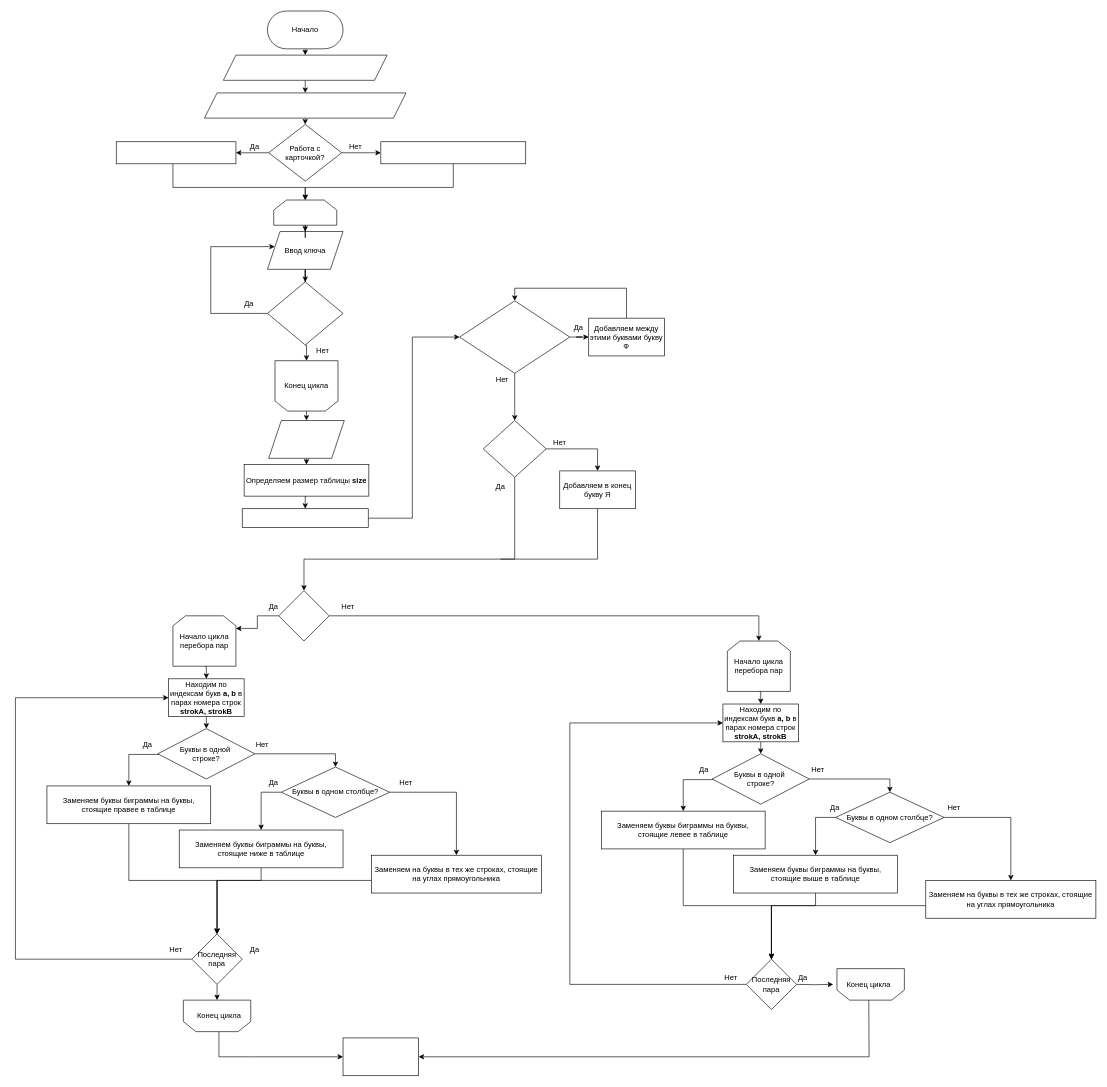
This 1107x1087 diagram has some shape labels left out. The shapes that lost their labels are listed below. From the top down, each one's centre as x and y in pixels, then its label:
At point (305, 67): "Выбор расшифрования или шифрования mode".
At point (305, 105): "Выбор работы с карточкой или большим текстом".
At point (176, 152): "Используем малый алфавит".
At point (453, 152): "Используем большой алфаавит".
At point (305, 212): "Начало цикла".
At point (305, 313): "В ключе есть повторяющиеся буквы?".
At point (514, 336): "Есть биграммы с одинаковыми буквами?".
At point (306, 439): "Ввод текста open_text".
At point (514, 448): "Длина текста кратна 2".
At point (305, 518): "Создаём таблицу table".
At point (303, 615): "mode == 1?".
At point (380, 1056): "Вывод результата".
